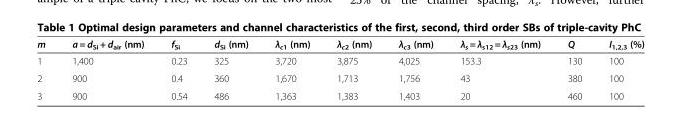table: (36, 37, 643, 101)
table column: (446, 37, 553, 101), (58, 37, 156, 101), (322, 37, 384, 101), (384, 37, 446, 101), (200, 37, 261, 101), (261, 37, 322, 101), (594, 37, 643, 101), (156, 37, 200, 101), (553, 37, 594, 101), (36, 37, 58, 101)
table column header: (36, 37, 643, 52)
table row: (36, 52, 643, 69), (36, 69, 643, 86), (36, 37, 643, 52), (36, 86, 643, 101)
